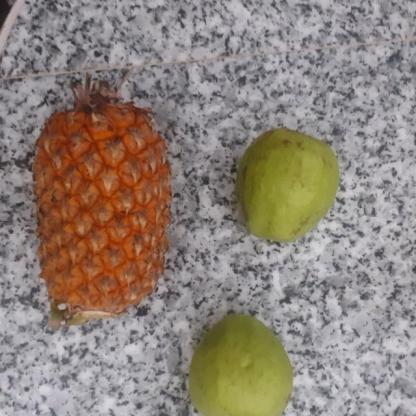guava: (228, 128, 336, 238), (184, 314, 294, 416)
pineapple: (32, 85, 168, 331)
